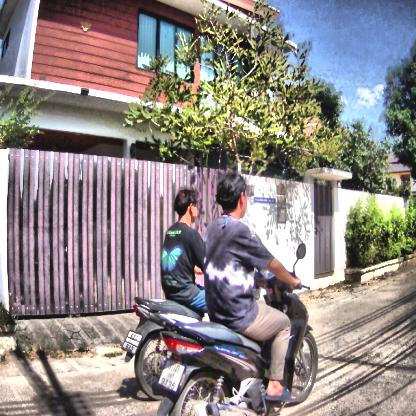not_wear: (215, 173, 248, 221), (173, 188, 201, 224)
